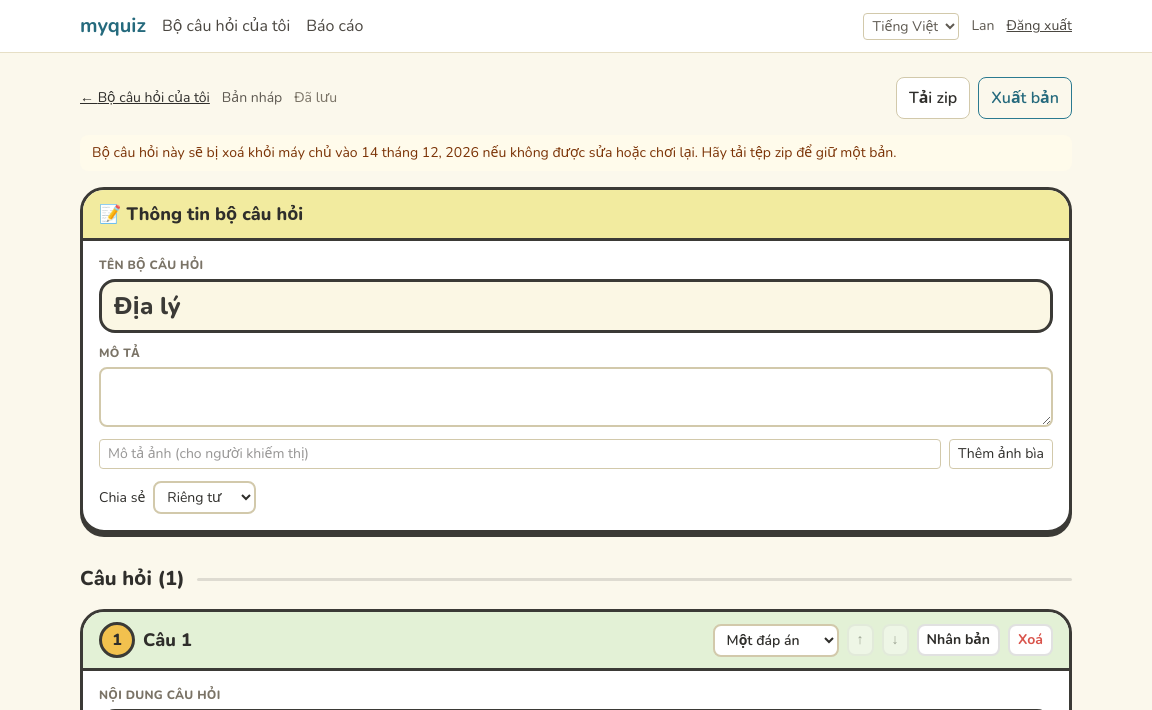
publish problems are shown on the question they belong to
This screenshot has width=1152, height=710.
Click the button "Xuất bản" at (1025, 98), box x1=978 y1=77 x2=1072 y2=119
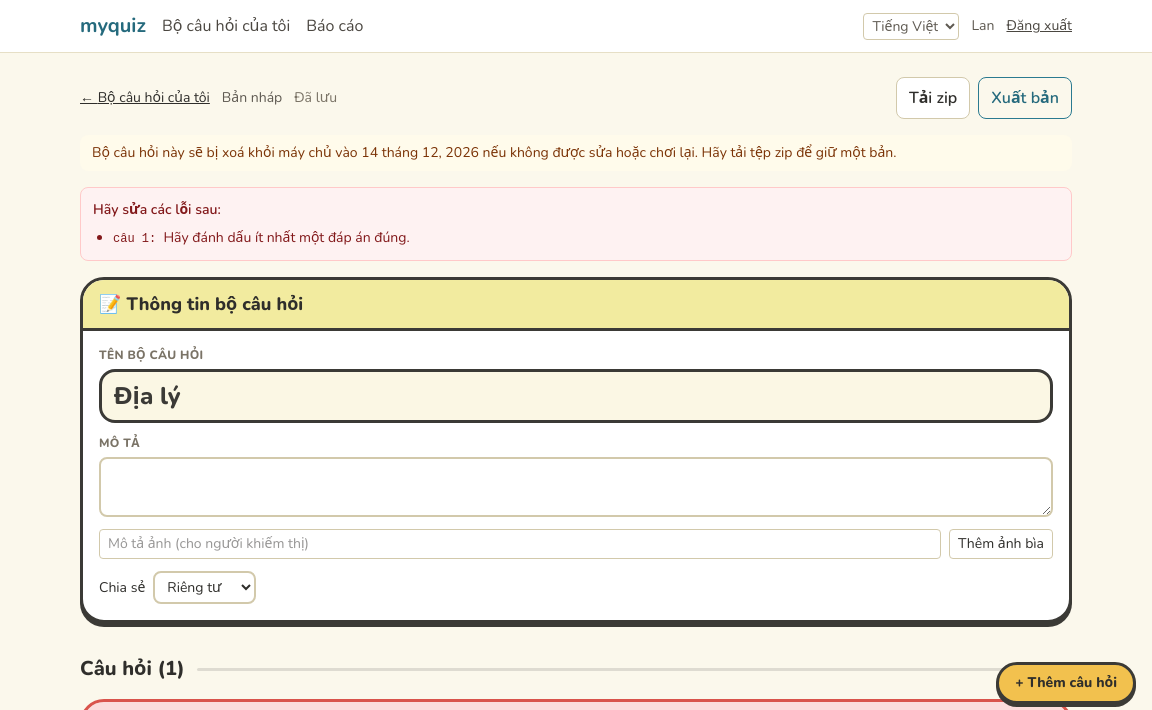
Result: the list item "Hãy đánh dấu ít nhất một đáp án đúng." is shown at x1=163 y1=228 x2=410 y2=247
